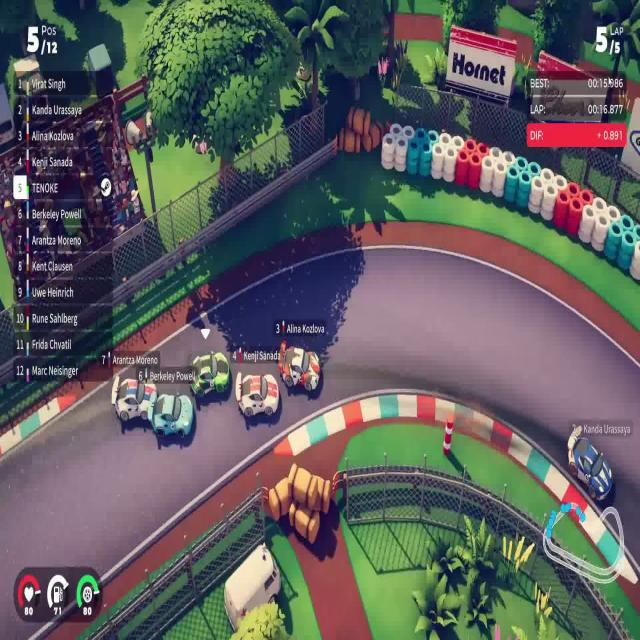car: (566, 424, 614, 504), (278, 339, 321, 394), (147, 391, 194, 439), (234, 370, 279, 419), (114, 376, 156, 424), (190, 349, 230, 398)
